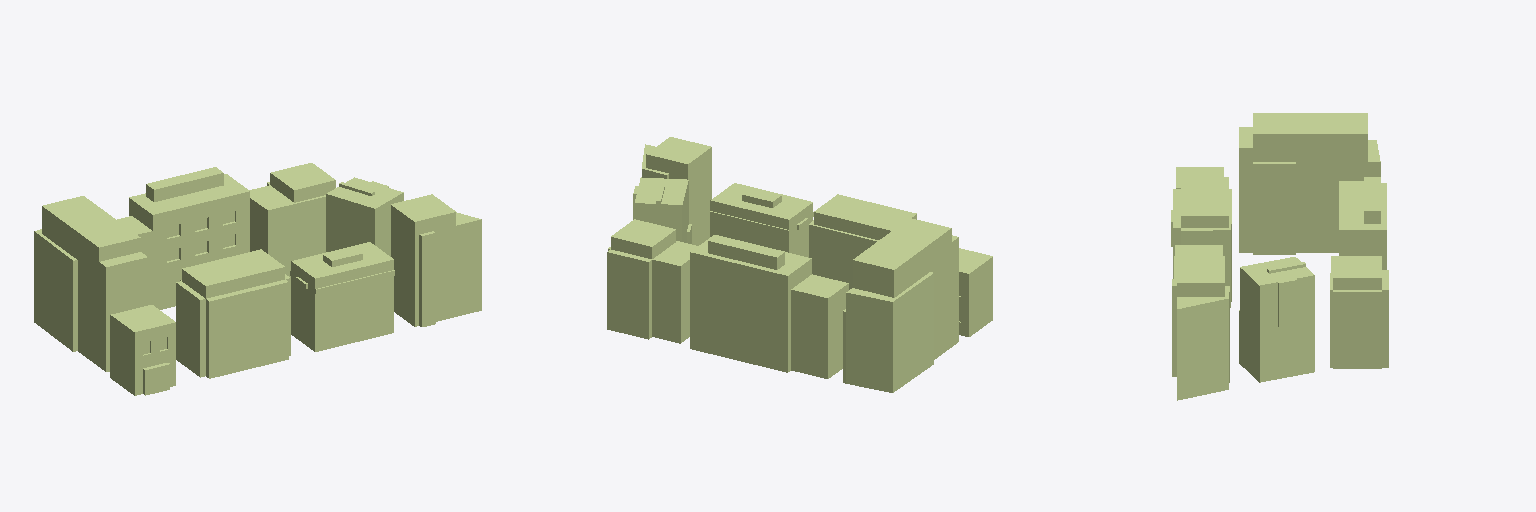
The model's file is city_006.obj.
3 renders of one model, left to right at view 1: azimuth 30°, elevation 25°; view 2: azimuth 150°, elevation 25°; view 3: azimuth 270°, elevation 25°, orthographic.
Parts seen in each view (by area): view 1: Box028, Box032, Box036, Box031, Box026, Box029, Box027, Box030; view 2: Box036, Box028, Box029, Box026, Box032, Box031, Box030, Box027; view 3: Box028, Box030, Box031, Box029, Box032, Box036, Box026, Box027.
Boxes of the visible parts, x1,y1,x2,y2 form: Box028: [34, 196, 147, 371]; Box032: [176, 249, 290, 378]; Box036: [117, 167, 249, 309]; Box031: [391, 194, 481, 326]; Box026: [290, 242, 394, 351]; Box029: [249, 163, 335, 277]; Box027: [110, 305, 175, 395]; Box030: [326, 177, 403, 256]; Box036: [690, 235, 848, 378]; Box028: [843, 218, 958, 392]; Box029: [607, 219, 697, 343]; Box026: [710, 183, 813, 257]; Box032: [809, 194, 916, 289]; Box031: [642, 137, 711, 245]; Box030: [633, 177, 691, 243]; Box027: [959, 248, 992, 336]; Box028: [1239, 113, 1380, 254]; Box030: [1239, 257, 1314, 382]; Box031: [1172, 263, 1229, 400]; Box029: [1330, 256, 1388, 368]; Box032: [1173, 177, 1231, 307]; Box036: [1339, 177, 1386, 269]; Box026: [1174, 245, 1224, 278]; Box027: [1171, 167, 1223, 246].
Size of the model in its own units: 9.86 by 3.22 by 5.33.